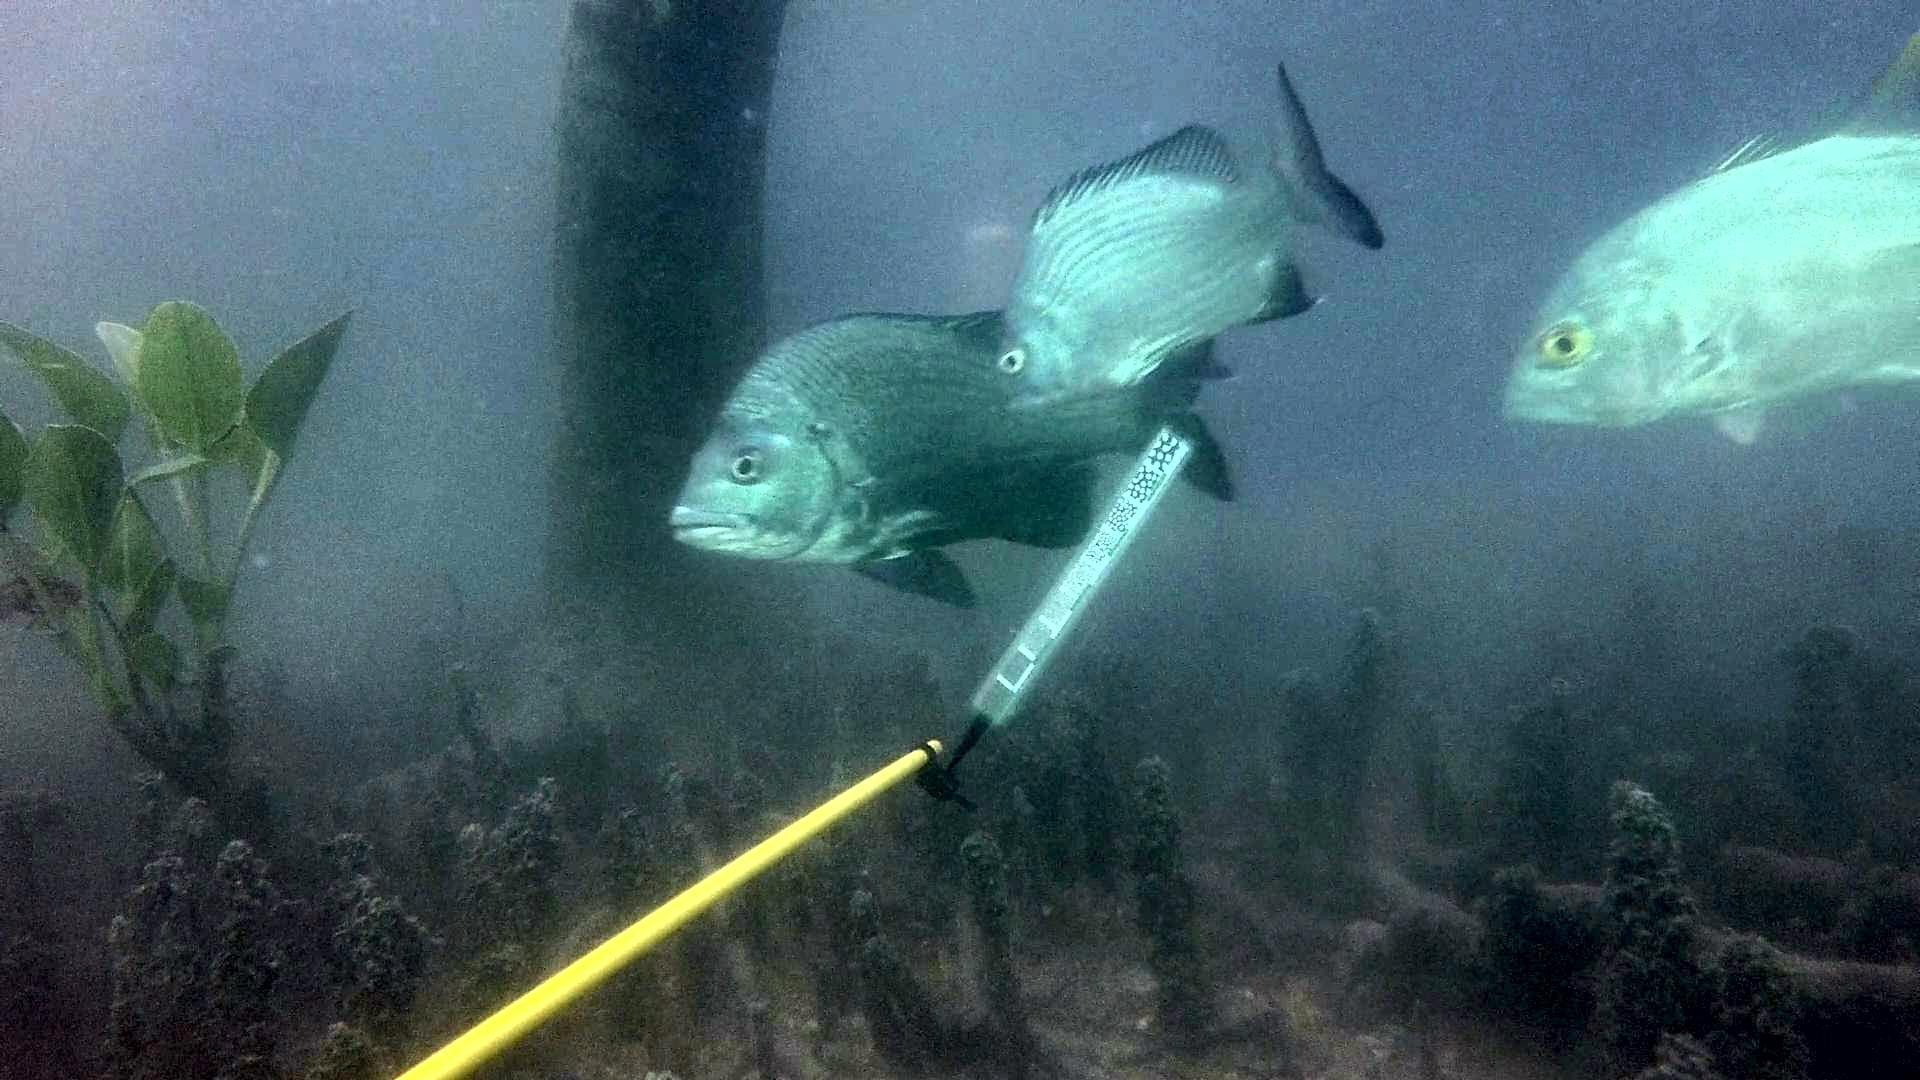acanthopagrus palmaris: (663, 297, 1247, 619), (991, 53, 1394, 426)
caranx: (1481, 26, 1920, 453)
